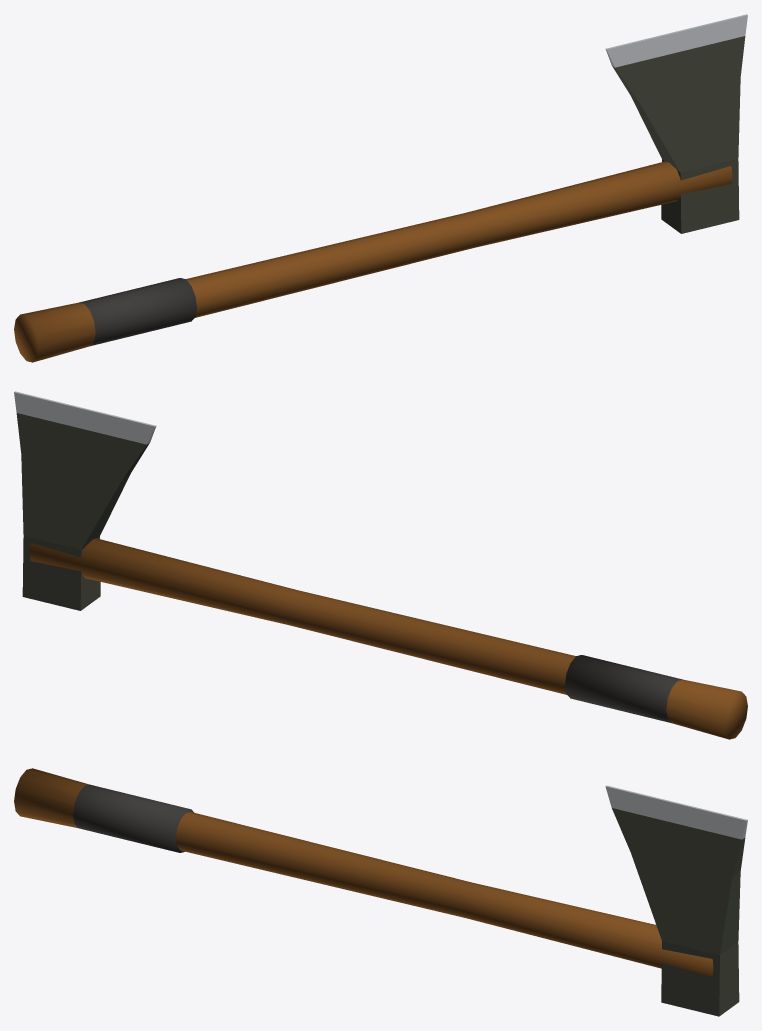
The model's file is held_woodaxe.glb.
3 views of the same model, one above another, from view 1: azimuth 30°, elevation 25°; view 2: azimuth 150°, elevation 25°; view 3: azimuth 330°, elevation 25° (orthographic).
Visible parts, largest first — view 1: haft, head, grip, bit; view 2: haft, head, grip, bit; view 3: haft, head, grip, bit.
Part boxes in pixels (x1,y1,x2,y2): haft: (14,161,732,362); head: (612,36,745,233); grip: (79,278,196,345); bit: (605,14,747,67); haft: (29,538,747,739); head: (16,413,149,610); grip: (565,655,682,722); bit: (14,391,156,444); haft: (14,768,713,976); head: (612,808,745,1016); grip: (73,784,193,852); bit: (605,785,747,839).
Bounding box in the file's own units: 0.995 × 0.255 × 0.0594.
